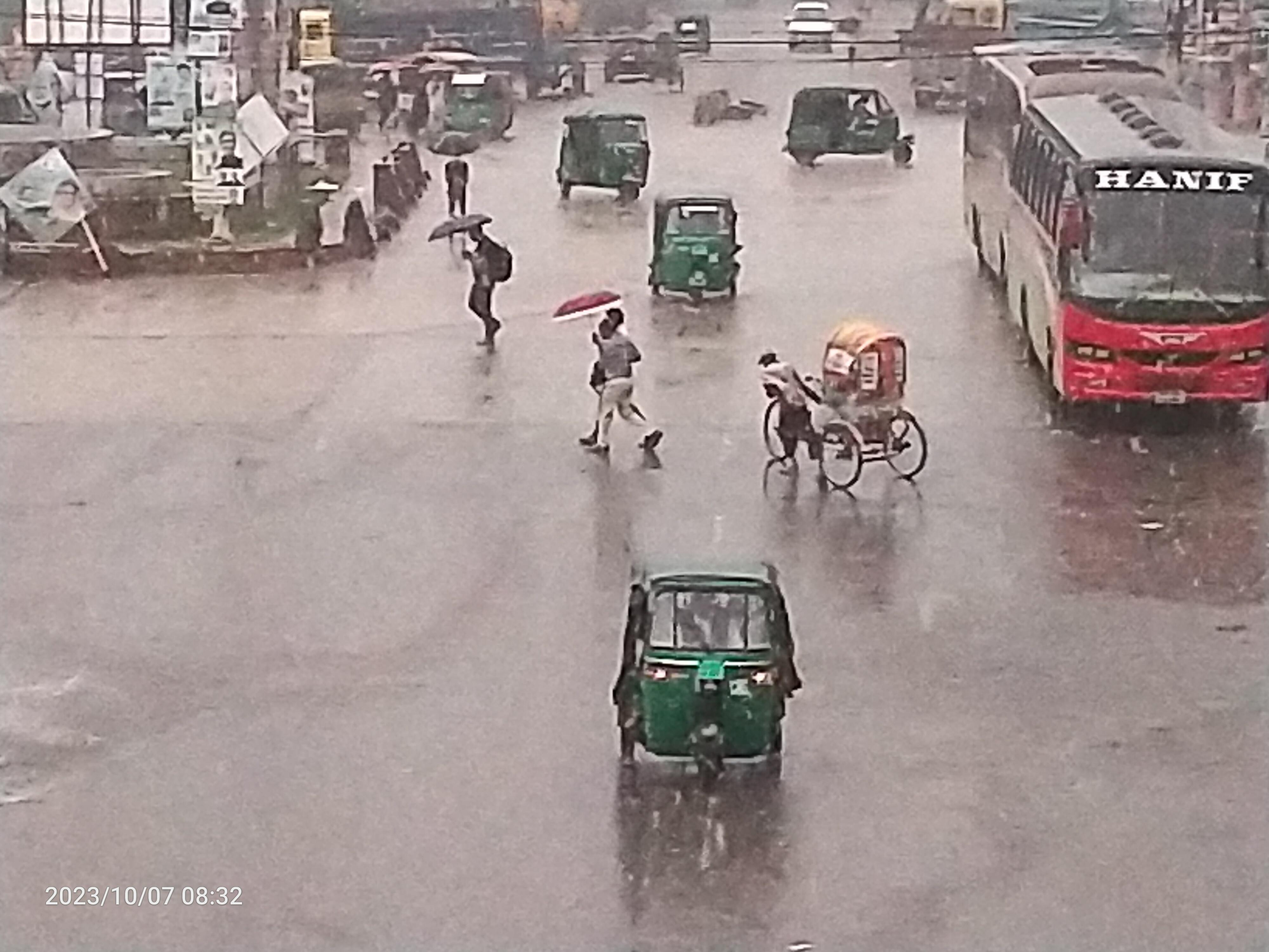Bus: (982, 86, 1269, 446), (943, 24, 1044, 301)
Car: (737, 331, 934, 518), (767, 0, 858, 63)
